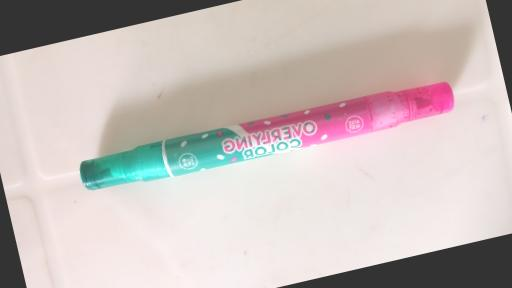Highlighter: (76, 74, 456, 196)
